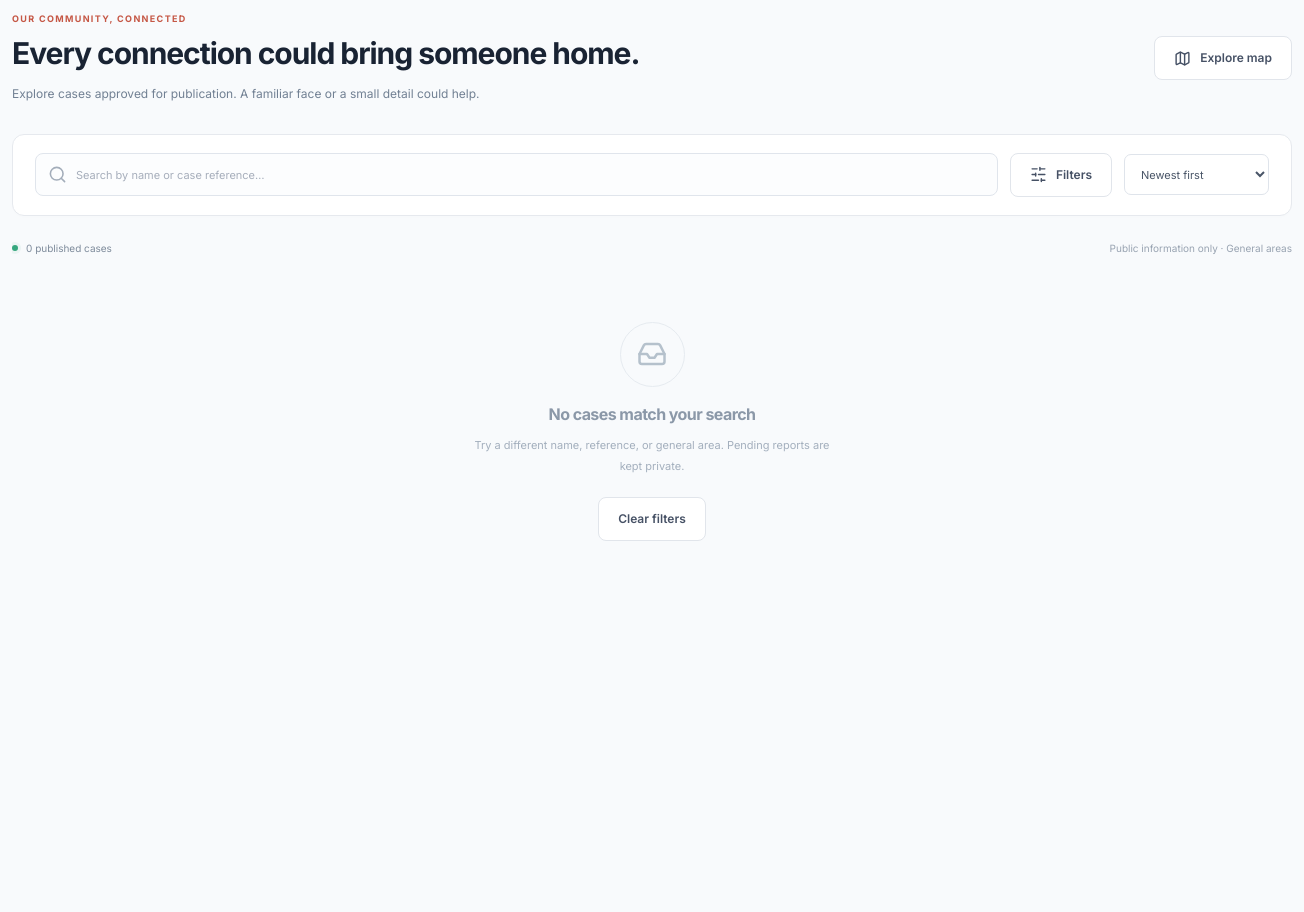
Test: FindBack client workflows › filters cases through server query parameters
This screenshot has width=1304, height=912.
Type "FB-TEST" into the field named "Search name or case reference".
click(530, 175); type("FB-TEST")  # box left=76, top=154, right=985, bottom=196
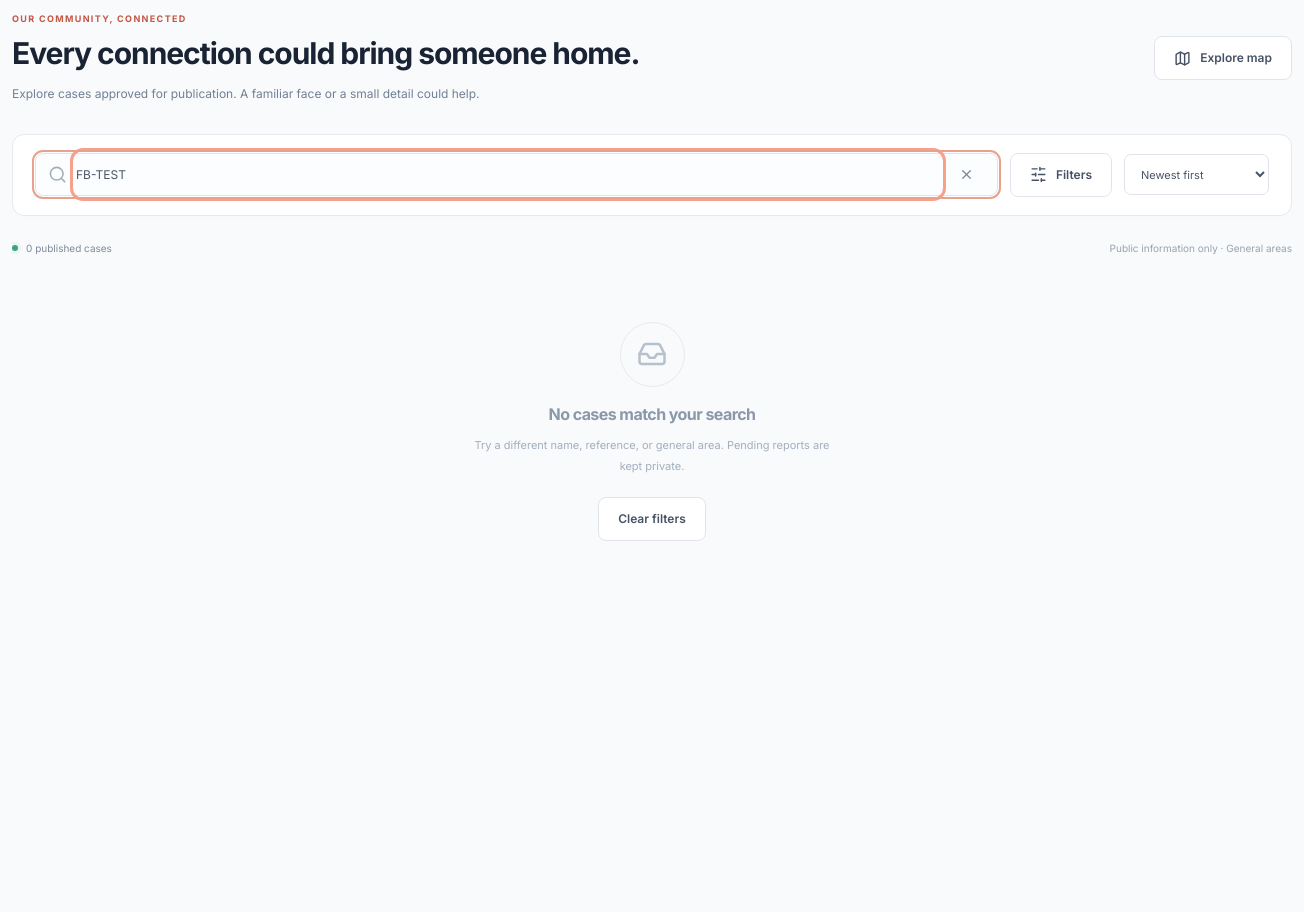
Click the button "Filters".
click(1061, 175)  # box left=1010, top=153, right=1112, bottom=197
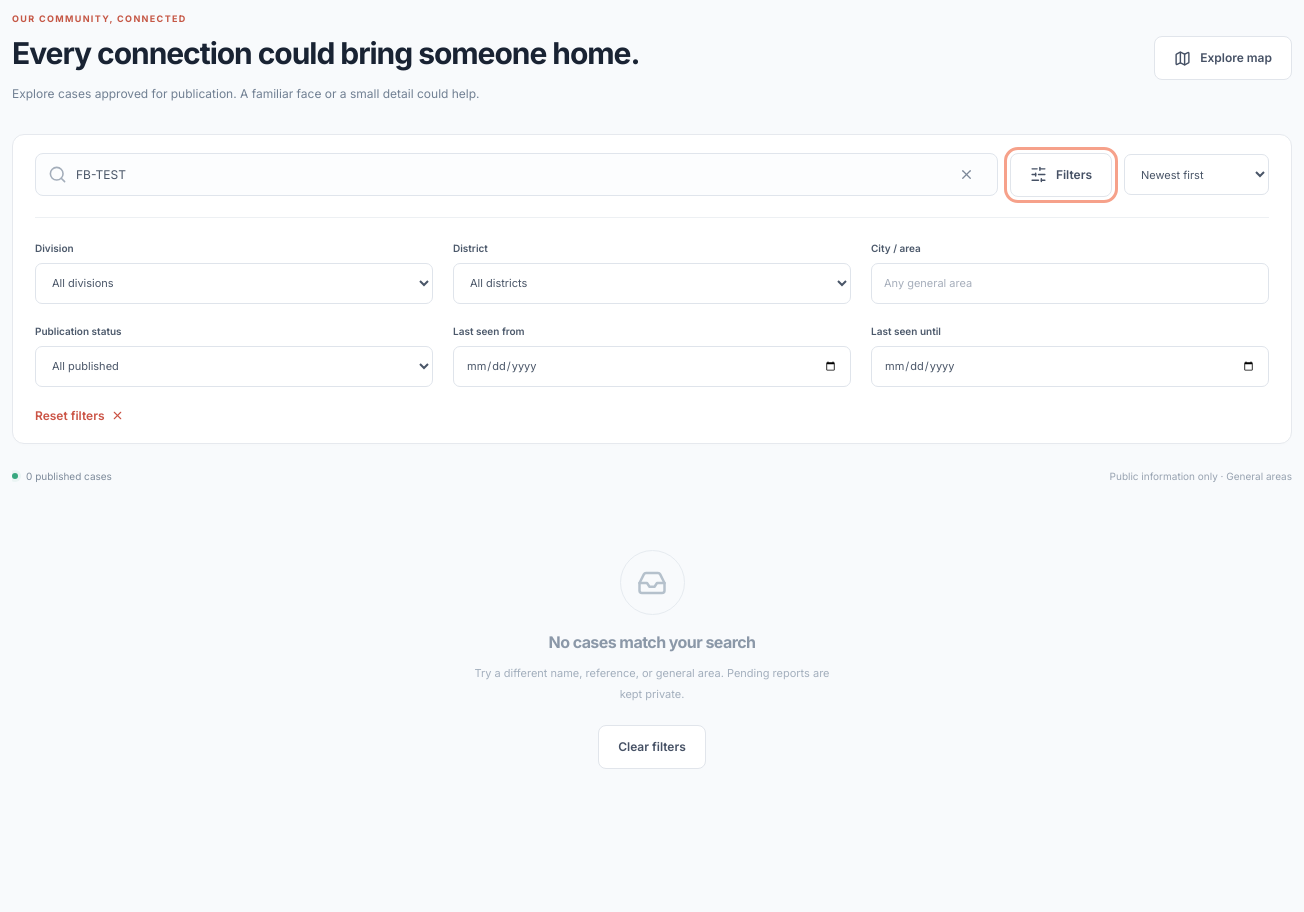
Expected: the heading "No cases match your search" is shown, left=548, top=632, right=756, bottom=653
Now the dropdown labelled "Division" is shown, box left=35, top=263, right=433, bottom=304
